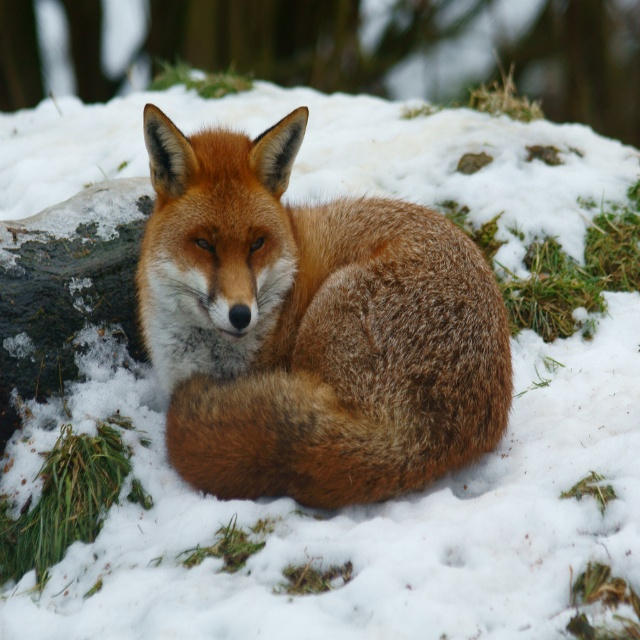Fox: (133, 101, 517, 510)
